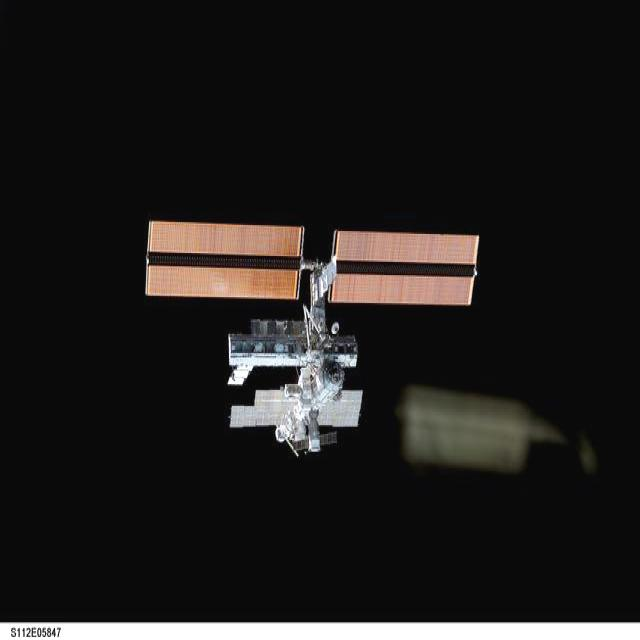medium_debris: (148, 221, 479, 452)
